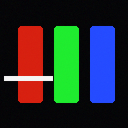3 line_h: (4, 76, 52, 80)
